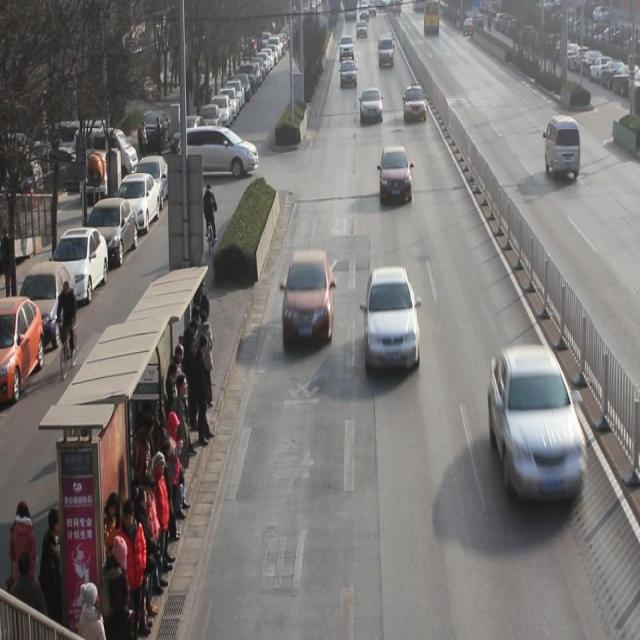car: (491, 348, 590, 512), (366, 268, 421, 373), (282, 252, 335, 348), (380, 148, 413, 208), (403, 87, 428, 126), (359, 90, 384, 127), (340, 61, 358, 90)
truck: (546, 116, 581, 185)
